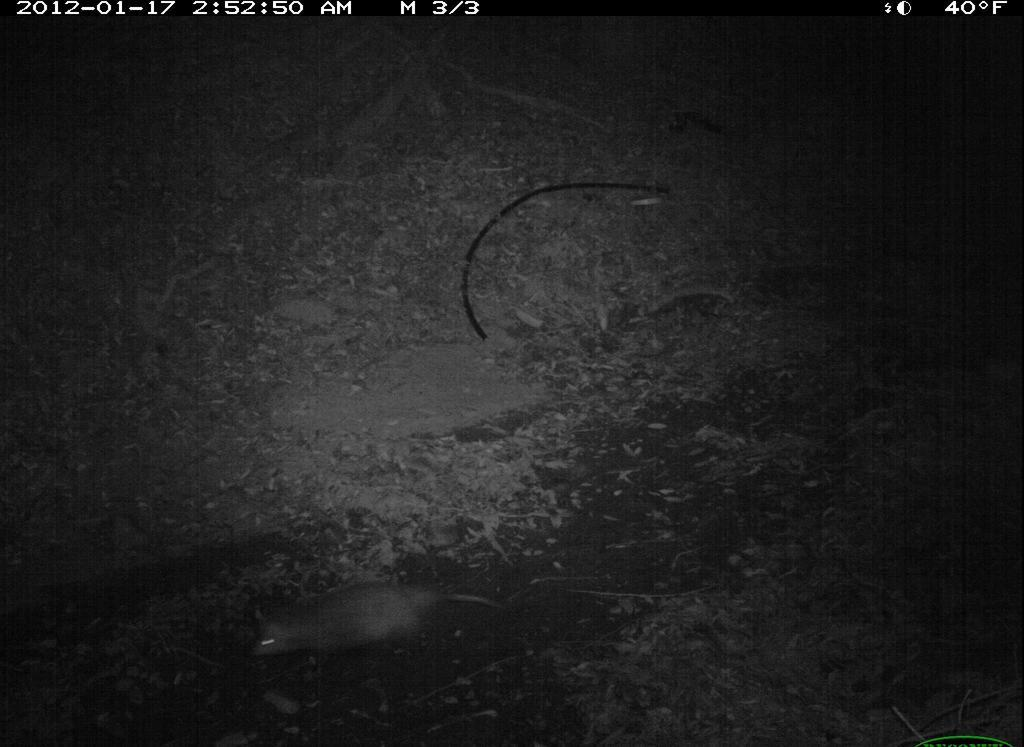opossum: (227, 568, 530, 673)
